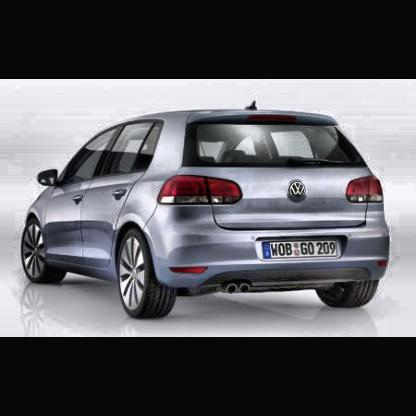Volkswagen Golf Hatchback 2012: (19, 99, 394, 324)
